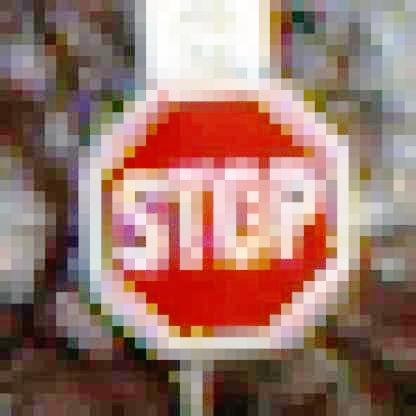Stop Sign: (89, 79, 357, 355)
